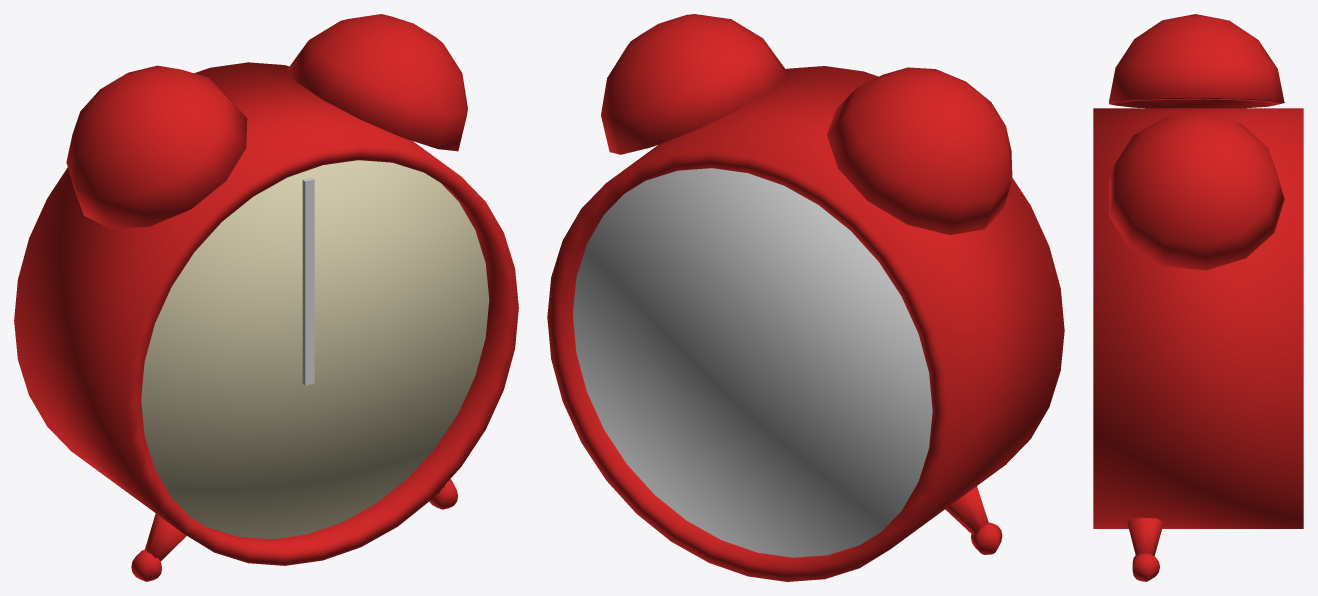
File: item13_alarmClock.fbx
3 renders of one model, left to right at view 1: azimuth 30°, elevation 25°; view 2: azimuth 150°, elevation 25°; view 3: azimuth 270°, elevation 25°, orthographic. The views are drawn at different scales.
Parts seen in each view (by area): view 1: alarmClock, clockHandH, clockHandM; view 2: alarmClock; view 3: alarmClock.
Boxes of the visible parts, x1,y1,x2,y2 form: alarmClock: [14, 14, 518, 581]; clockHandH: [302, 233, 314, 385]; clockHandM: [302, 177, 314, 384]; alarmClock: [547, 14, 1064, 581]; alarmClock: [1093, 14, 1303, 581].
Size of the model in its own units: 200 by 232 by 99.85.
